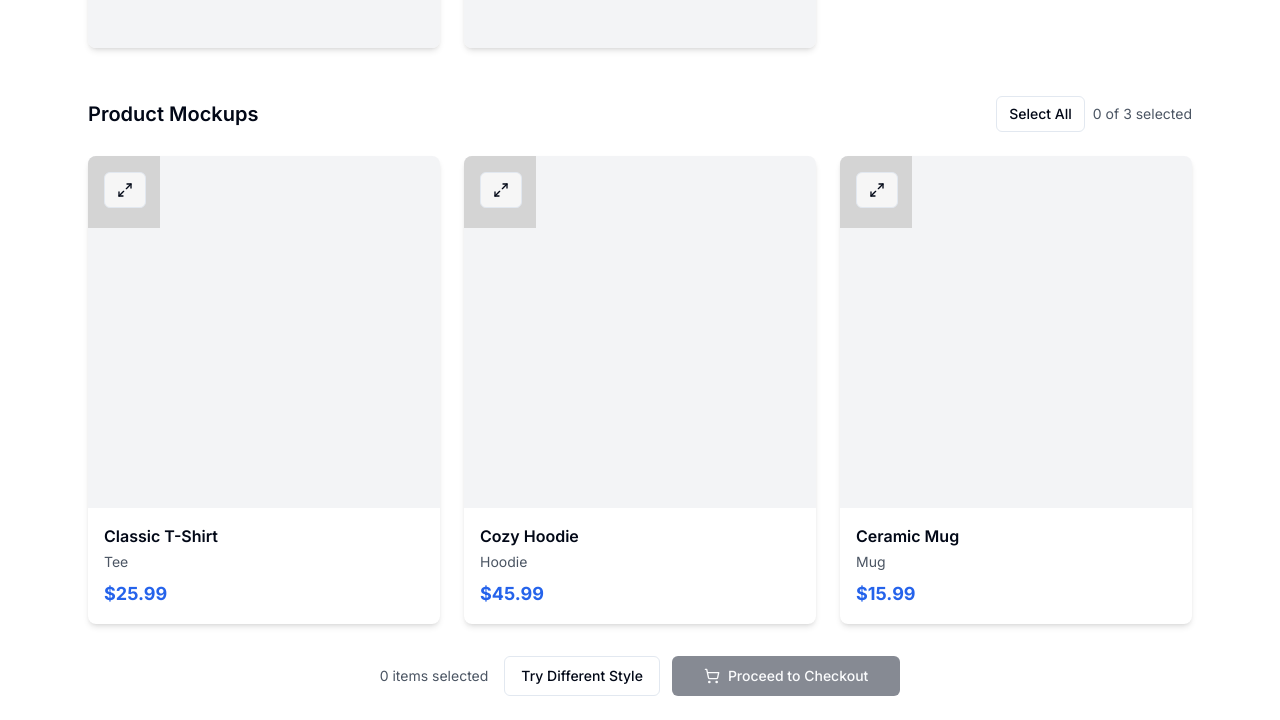
ResultsGallery › calculates total price correctly
This screenshot has width=1280, height=720.
(page scrolled)
Click the text "Classic T-Shirt" at [161, 536], box [104, 526, 218, 604]
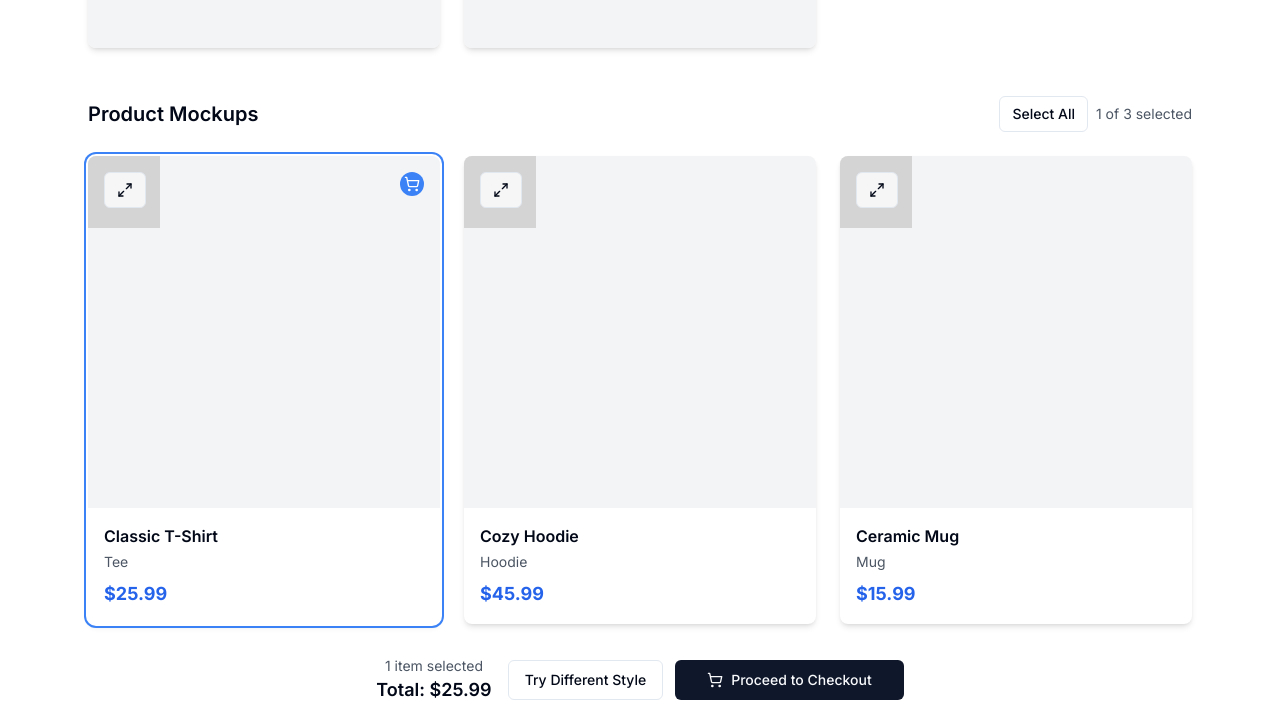
Click the text "Ceramic Mug" at [908, 536], box [856, 526, 959, 604]
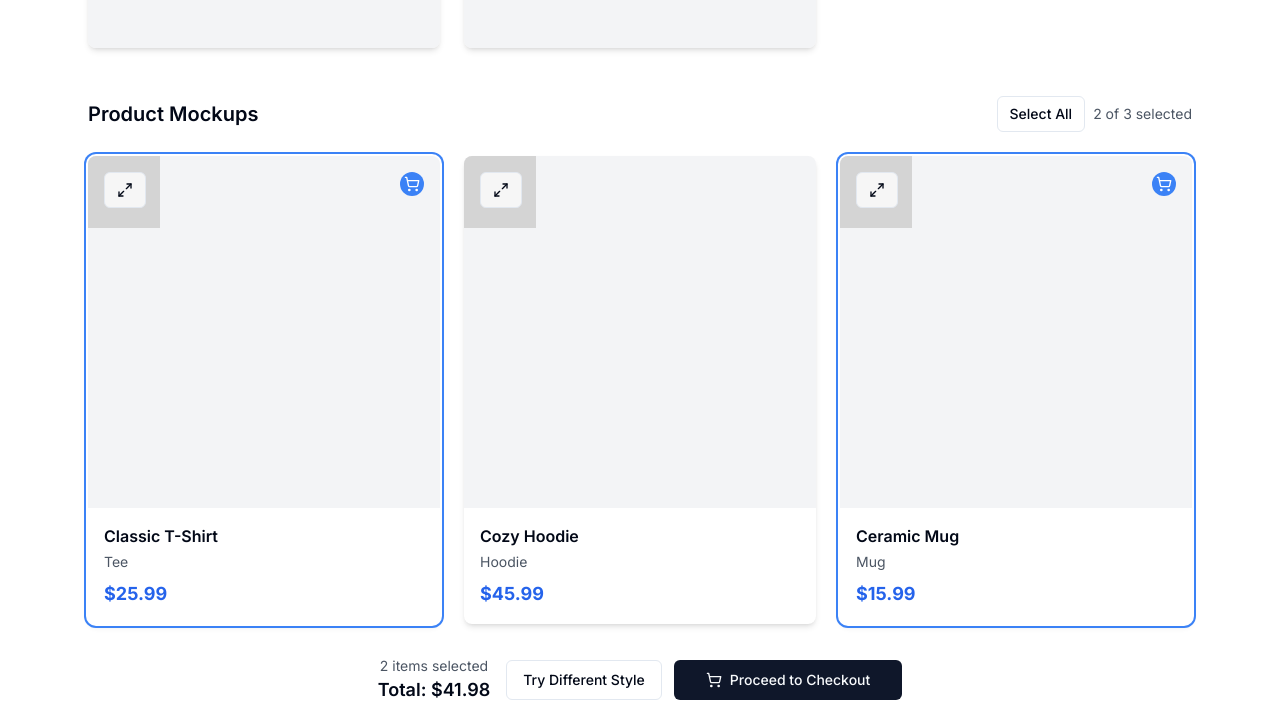
Check: the text "Total: $41.98" is shown, box [378, 676, 490, 704]
